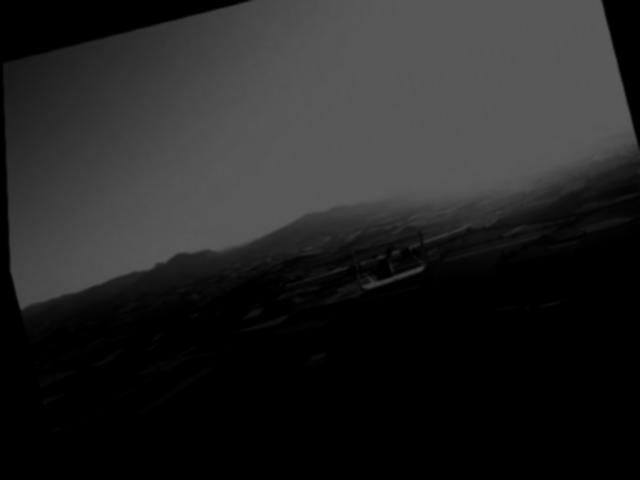hedef: (265, 201, 495, 337)
